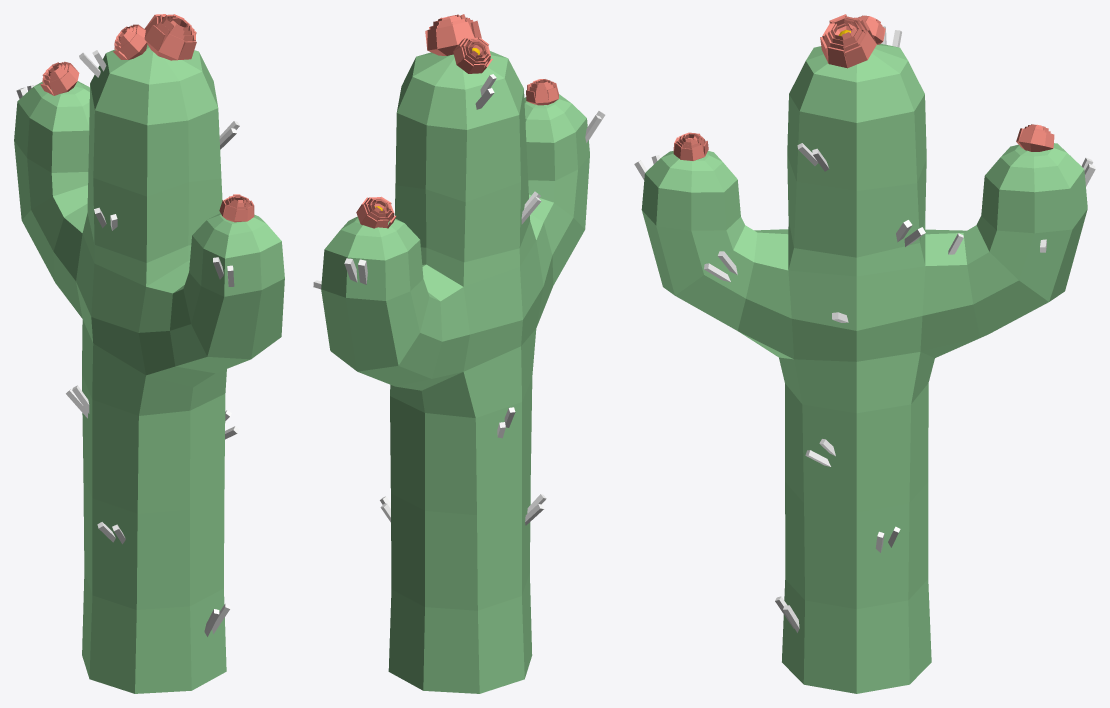
File: Cactus_01.gltf
The picture shows the model from 3 angles, left to right: view 1: azimuth 30°, elevation 25°; view 2: azimuth 150°, elevation 25°; view 3: azimuth 270°, elevation 25°; orthographic projection.
Parts seen in each view (by area): view 1: node-0; view 2: node-0; view 3: node-0.
Boxes of the visible parts, left/top/right/bottom form: node-0: left=14, top=14, right=284, bottom=693; node-0: left=313, top=14, right=605, bottom=693; node-0: left=634, top=14, right=1095, bottom=693.
Size of the model in its own units: 2.38 by 10.02 by 6.47.
